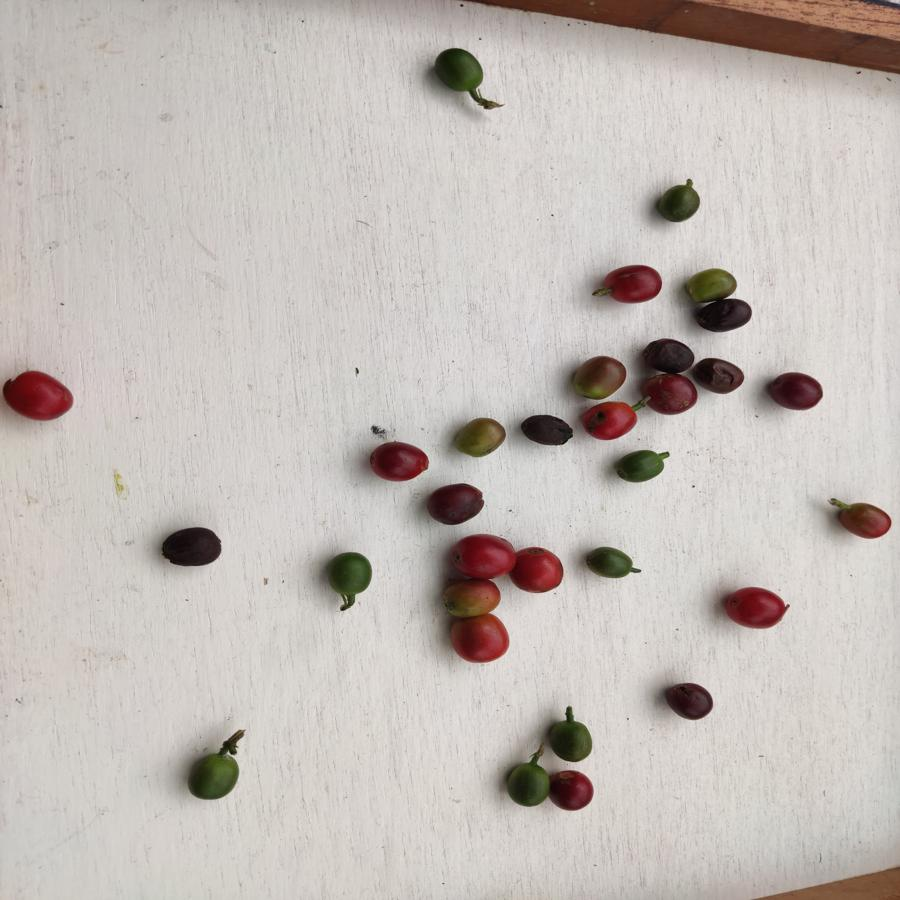Inmaduro: (433, 46, 490, 96), (188, 752, 240, 801), (326, 552, 375, 599), (505, 761, 550, 810), (614, 448, 669, 487), (550, 718, 593, 763), (653, 183, 701, 223), (585, 544, 636, 579)
Maduro: (2, 371, 72, 422), (450, 612, 513, 664), (449, 532, 517, 580), (601, 262, 662, 305), (512, 544, 563, 594), (577, 401, 637, 442), (726, 585, 783, 628)
Pinton: (836, 495, 892, 543), (571, 353, 627, 398), (451, 417, 509, 458), (441, 580, 502, 615), (684, 268, 740, 297)
Sobremaduro: (158, 524, 228, 571), (367, 439, 430, 485), (426, 483, 486, 526), (638, 373, 700, 412), (766, 371, 824, 412), (661, 681, 716, 724), (692, 357, 747, 394), (641, 338, 694, 374), (549, 770, 595, 811), (693, 301, 752, 332), (520, 415, 573, 447)
